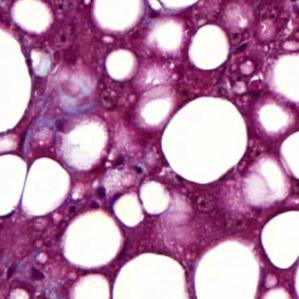steatosis: (155, 98, 253, 186), (62, 210, 126, 266), (22, 157, 72, 219), (189, 25, 232, 71)
